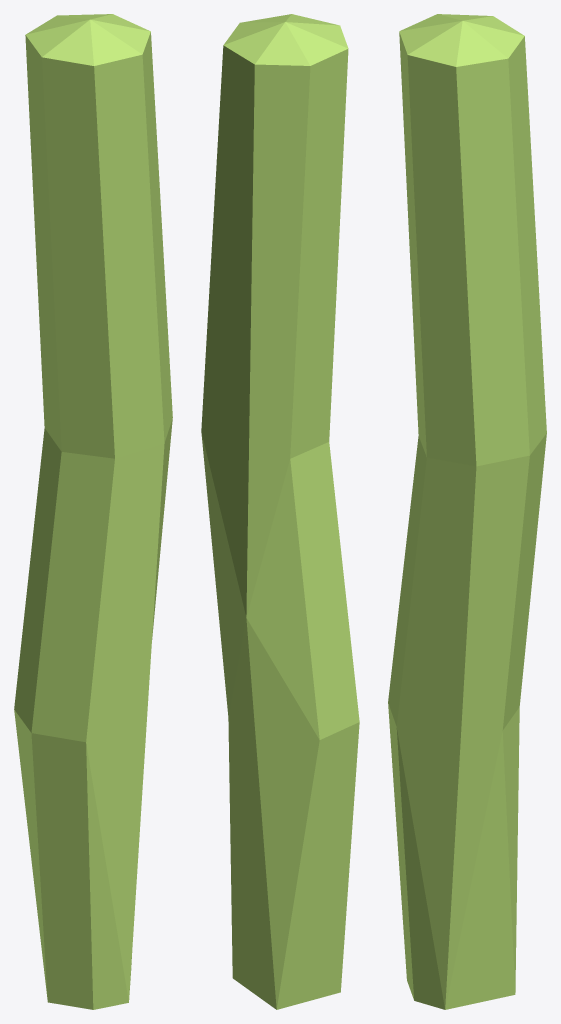
File: Cactus_b_m_BT_01.fbx
3 renders of one model, left to right at view 1: azimuth 30°, elevation 25°; view 2: azimuth 150°, elevation 25°; view 3: azimuth 330°, elevation 25°, orthographic.
Visible parts, largest first — view 1: Cactus_b_m_BT_01; view 2: Cactus_b_m_BT_01; view 3: Cactus_b_m_BT_01.
Boxes of the visible parts, x1=… form: Cactus_b_m_BT_01: x1=14, y1=14, x2=172, y2=1009; Cactus_b_m_BT_01: x1=201, y1=14, x2=359, y2=1009; Cactus_b_m_BT_01: x1=388, y1=14, x2=546, y2=1009.
Size of the model in its own units: 41.75 by 272 by 33.63.
